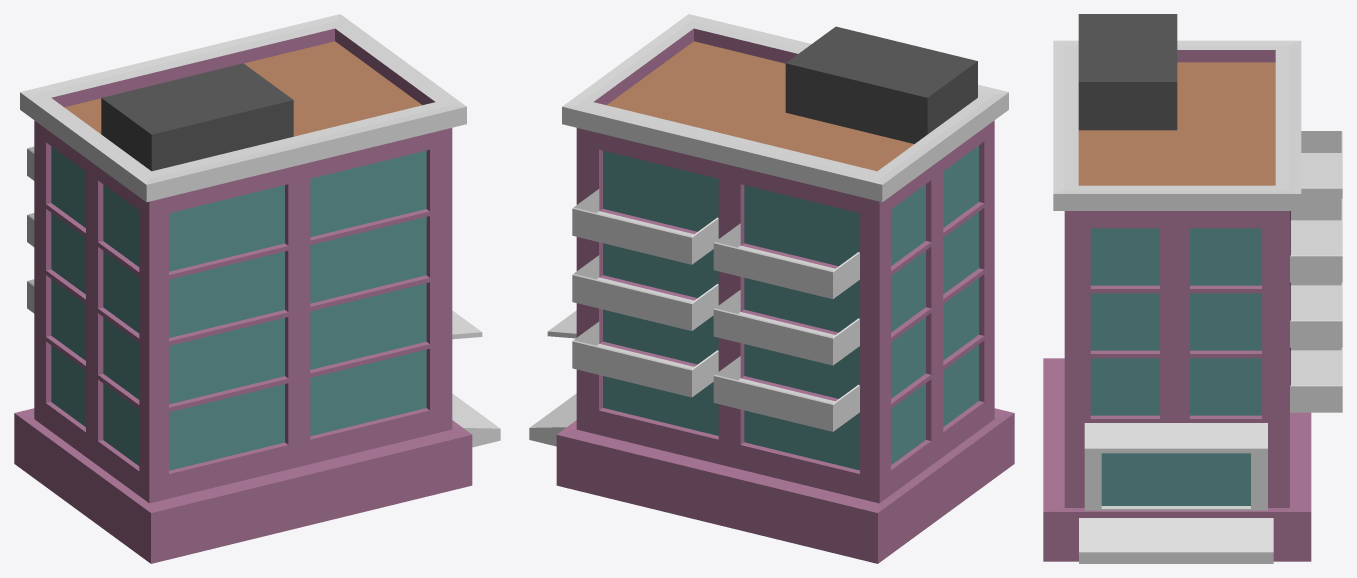
File: CartoonHouse4.fbx
3 views of the same model, side by side, from view 1: azimuth 30°, elevation 25°; view 2: azimuth 150°, elevation 25°; view 3: azimuth 270°, elevation 25° (orthographic). The views are drawn at different scales.
Visible parts, largest first — view 1: House; view 2: House; view 3: House.
Boxes of the visible parts, bbox=[...] form: House: bbox=[14, 14, 500, 563]; House: bbox=[529, 14, 1014, 563]; House: bbox=[1043, 14, 1342, 563].
Size of the model in its own units: 513 by 549 by 369.
